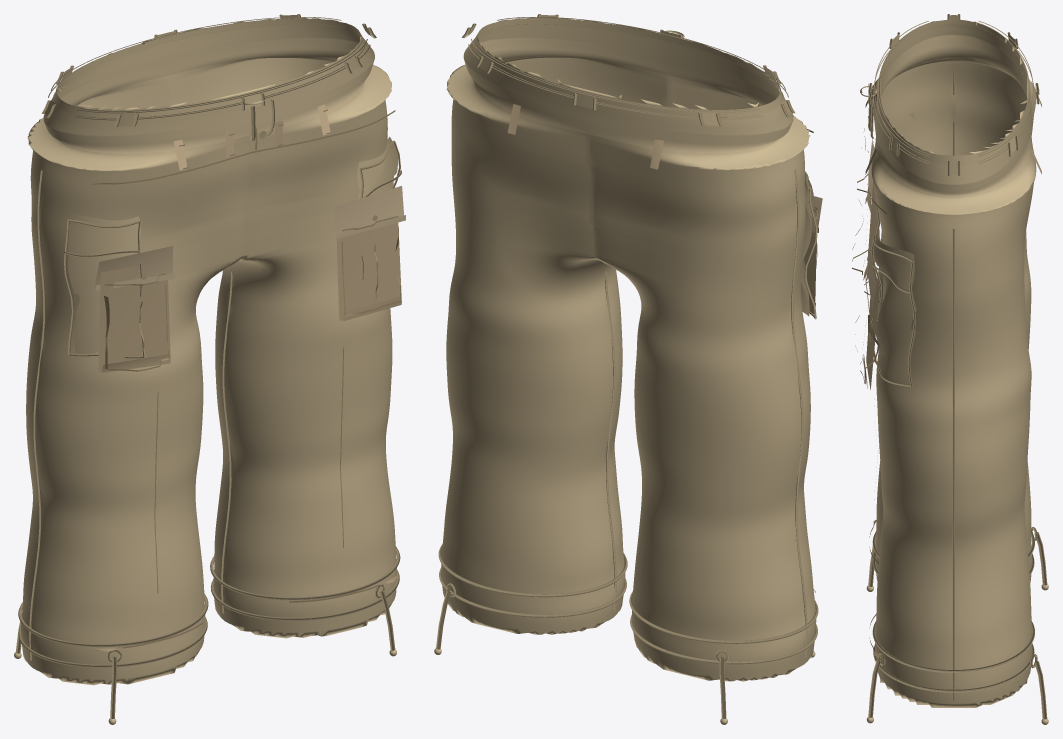
The model's file is display.glb.
3 renders of one model, left to right at view 1: azimuth 30°, elevation 25°; view 2: azimuth 150°, elevation 25°; view 3: azimuth 270°, elevation 25°, orthographic. The views are drawn at different scales.
Parts seen in each view (by area): view 1: AtelierX cargo trouser geometry, Two raised thigh cargo pocket bags, Two folded cargo pocket flaps, Pocket, fly and leg stitching, Six belt loops; view 2: AtelierX cargo trouser geometry; view 3: AtelierX cargo trouser geometry, Two raised thigh cargo pocket bags, Pocket, fly and leg stitching, Two folded cargo pocket flaps.
Part boxes in pixels (<box>): AtelierX cargo trouser geometry: <box>14,14,401,724</box>; Two raised thigh cargo pocket bags: <box>98,222,401,372</box>; Two folded cargo pocket flaps: <box>94,186,405,290</box>; Pocket, fly and leg stitching: <box>93,109,400,651</box>; Six belt loops: <box>174,104,330,170</box>; AtelierX cargo trouser geometry: <box>434,14,818,724</box>; AtelierX cargo trouser geometry: <box>860,14,1048,724</box>; Two raised thigh cargo pocket bags: <box>863,181,879,389</box>; Pocket, fly and leg stitching: <box>852,83,886,658</box>; Two folded cargo pocket flaps: <box>865,141,876,312</box>.
Size of the model in its own units: 0.5459 by 0.8578 by 0.2694.
